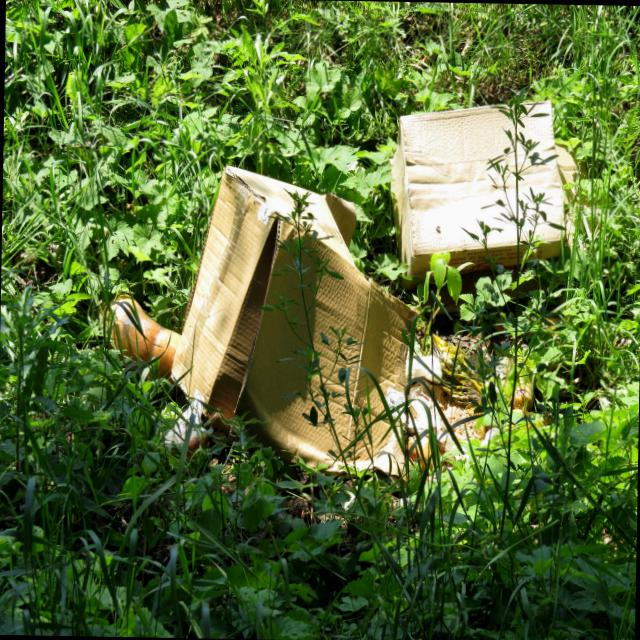garbage: (96, 60, 584, 492)
